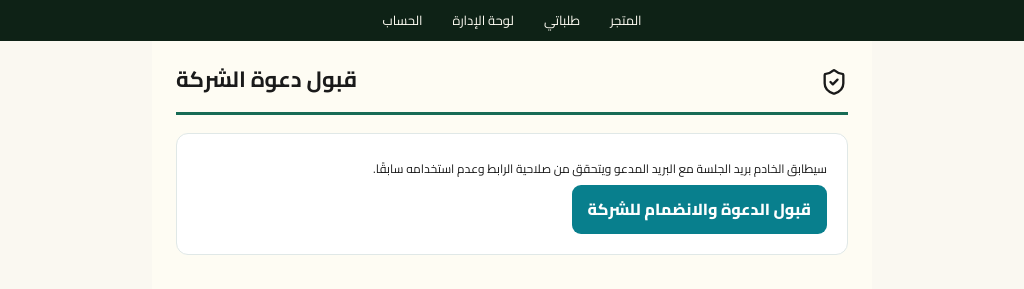
Test: customer storefront saved discovery › accepts a company invitation from the path token and removes the secret from the address bar
Step 1. Click the button "قبول الدعوة والانضمام للشركة" → point(699, 210), box left=572, top=185, right=827, bottom=234
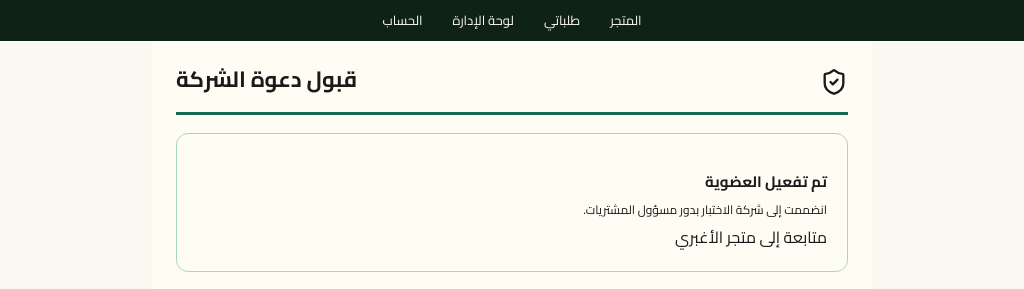
expect the text "تم تفعيل العضوية" is shown: met, box left=705, top=167, right=827, bottom=196
